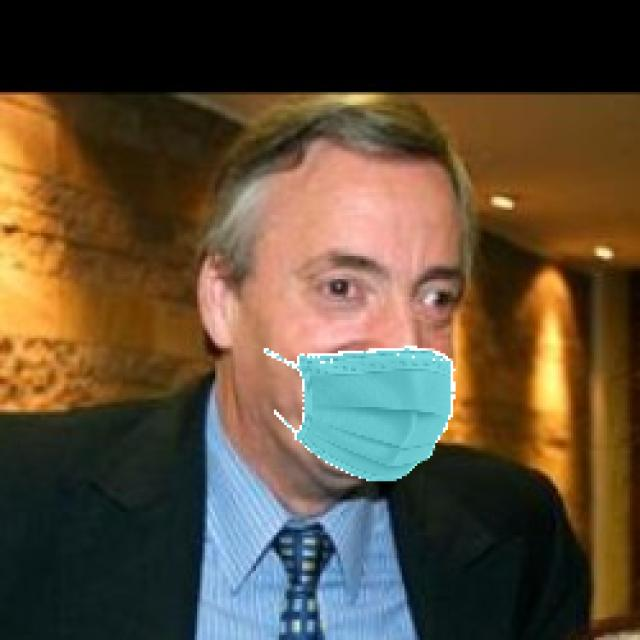mask: (265, 328, 461, 496)
